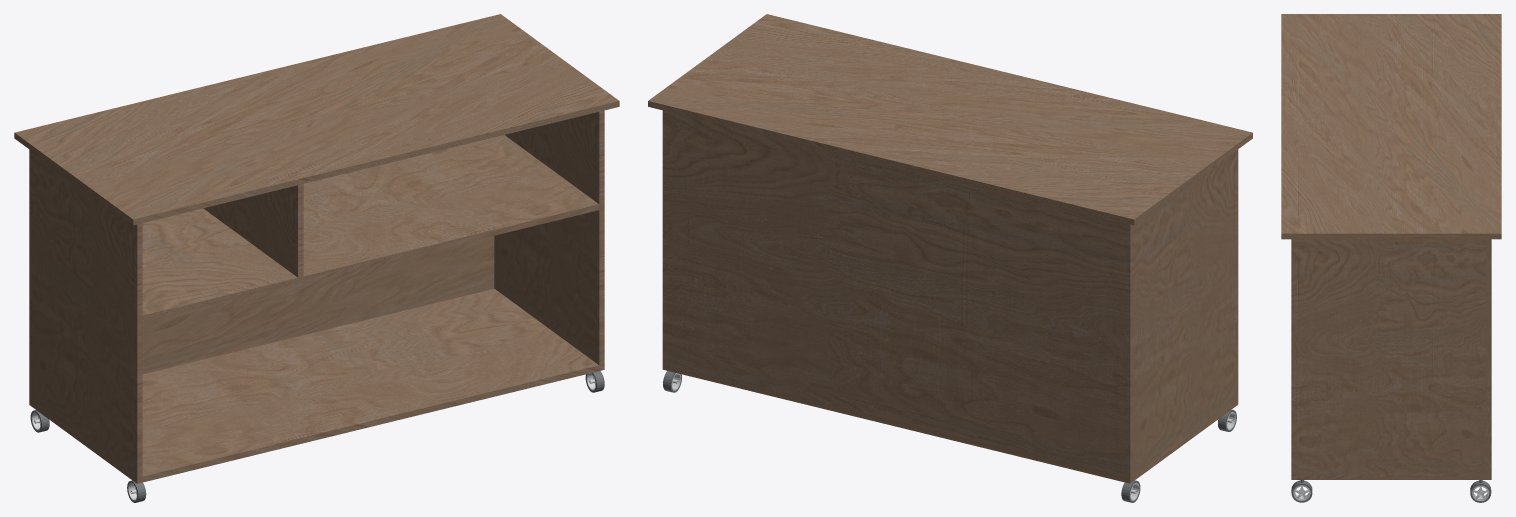
File: bartest.glb
The picture shows the model from 3 angles, left to right: view 1: azimuth 30°, elevation 25°; view 2: azimuth 150°, elevation 25°; view 3: azimuth 270°, elevation 25°; orthographic projection. The views are drawn at different scales.
Parts seen in each view (by area): view 1: tinker:group_4_14860437, tinker:group_0_14860437, tinker:group_5_14860437, tinker:group_1_14860437, tinker:group_3_14860437, tinker:group_2_14860437, tinker:group_6_14860437; view 2: tinker:group_3_14860437, tinker:group_4_14860437, tinker:group_1_14860437, tinker:group_0_14860437; view 3: tinker:group_4_14860437, tinker:group_2_14860437, tinker:group_3_14860437, tinker:group_0_14860437.
Boxes of the visible parts, bbox=[...] form: tinker:group_4_14860437: bbox=[14, 14, 619, 225]; tinker:group_0_14860437: bbox=[29, 288, 604, 483]; tinker:group_5_14860437: bbox=[142, 135, 599, 321]; tinker:group_1_14860437: bbox=[32, 152, 142, 477]; tinker:group_3_14860437: bbox=[29, 149, 494, 400]; tinker:group_2_14860437: bbox=[494, 110, 604, 365]; tinker:group_6_14860437: bbox=[203, 184, 303, 277]; tinker:group_3_14860437: bbox=[662, 110, 1133, 477]; tinker:group_4_14860437: bbox=[648, 14, 1252, 225]; tinker:group_1_14860437: bbox=[1133, 149, 1238, 475]; tinker:group_0_14860437: bbox=[662, 364, 1238, 483]; tinker:group_4_14860437: bbox=[1281, 14, 1501, 239]; tinker:group_2_14860437: bbox=[1291, 239, 1485, 474]; tinker:group_3_14860437: bbox=[1485, 239, 1491, 474]; tinker:group_0_14860437: bbox=[1291, 474, 1491, 479].
Size of the model in its own units: 15.6 by 9.05 by 6.6.
4 materials, 2 textured.
